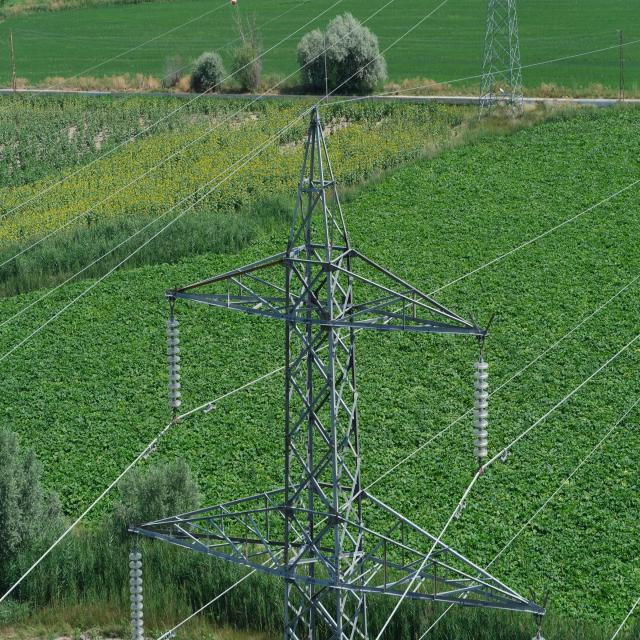sag_alt: (279, 117, 375, 640), (466, 0, 536, 125)
